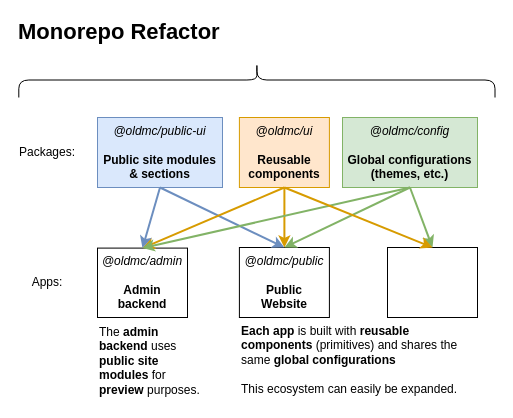
Some shapes in this 513 by 418 pixel diagram are drawn without their labels. Here are the shapes that lost their labels. From the top down, the centre of each, then its label:
At point (256, 80): "main".
At point (432, 282): "@oldmc/ops Operation tools".
